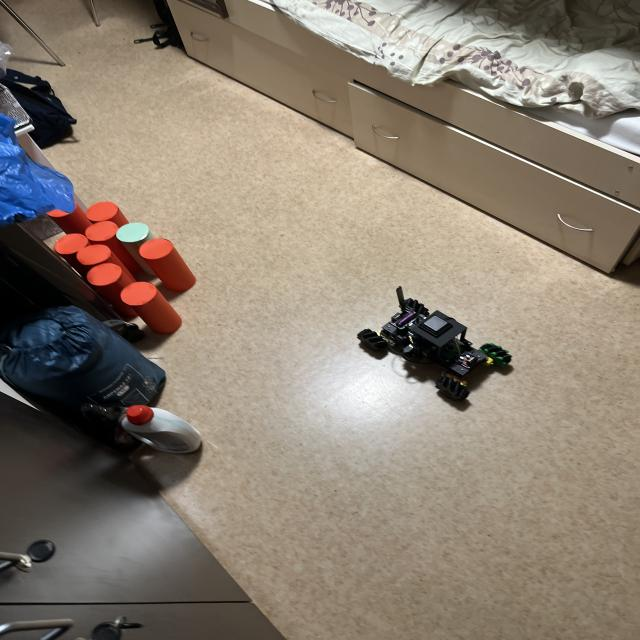robot: (357, 287, 512, 401)
